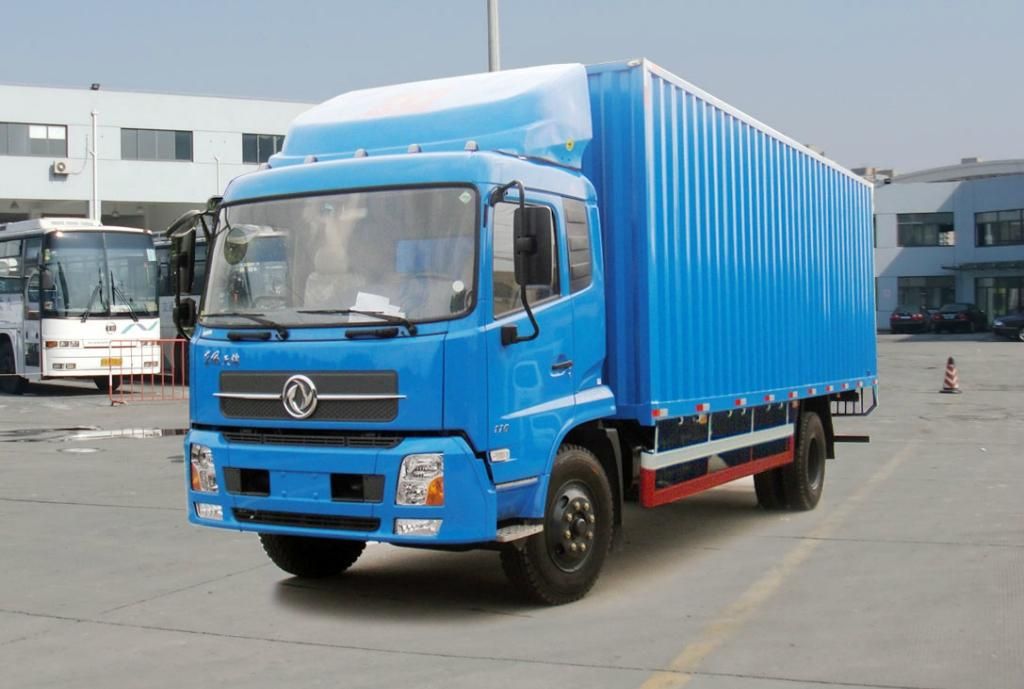卡车: (183, 62, 895, 600)
